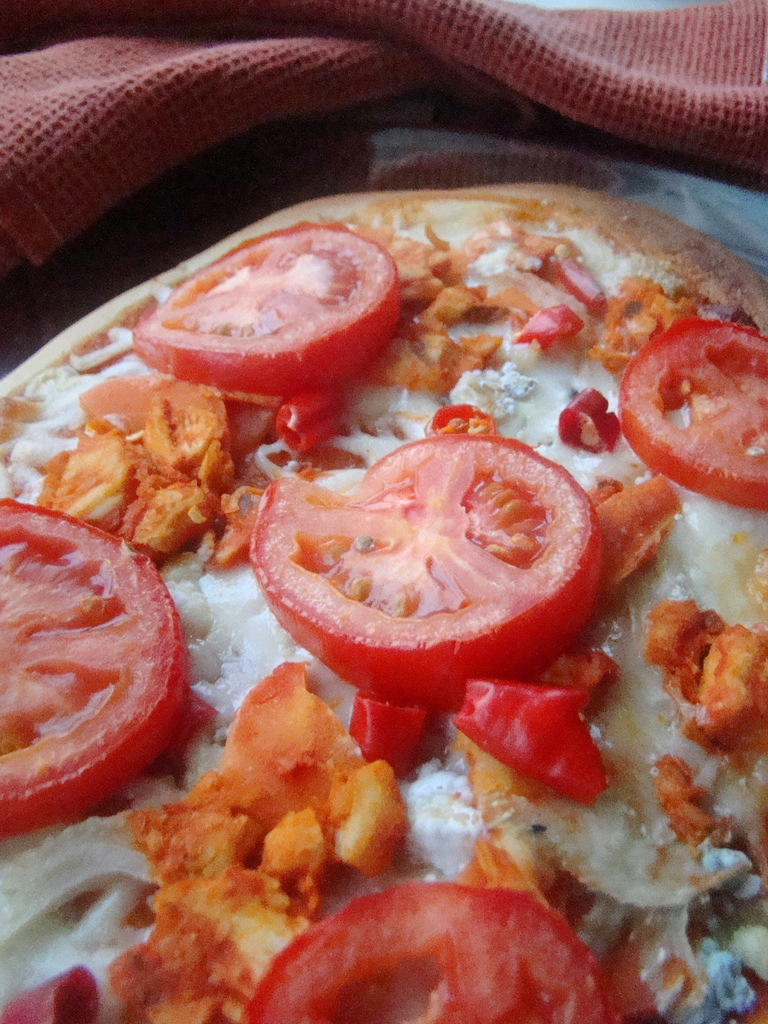Pizza: (0, 116, 768, 992)
